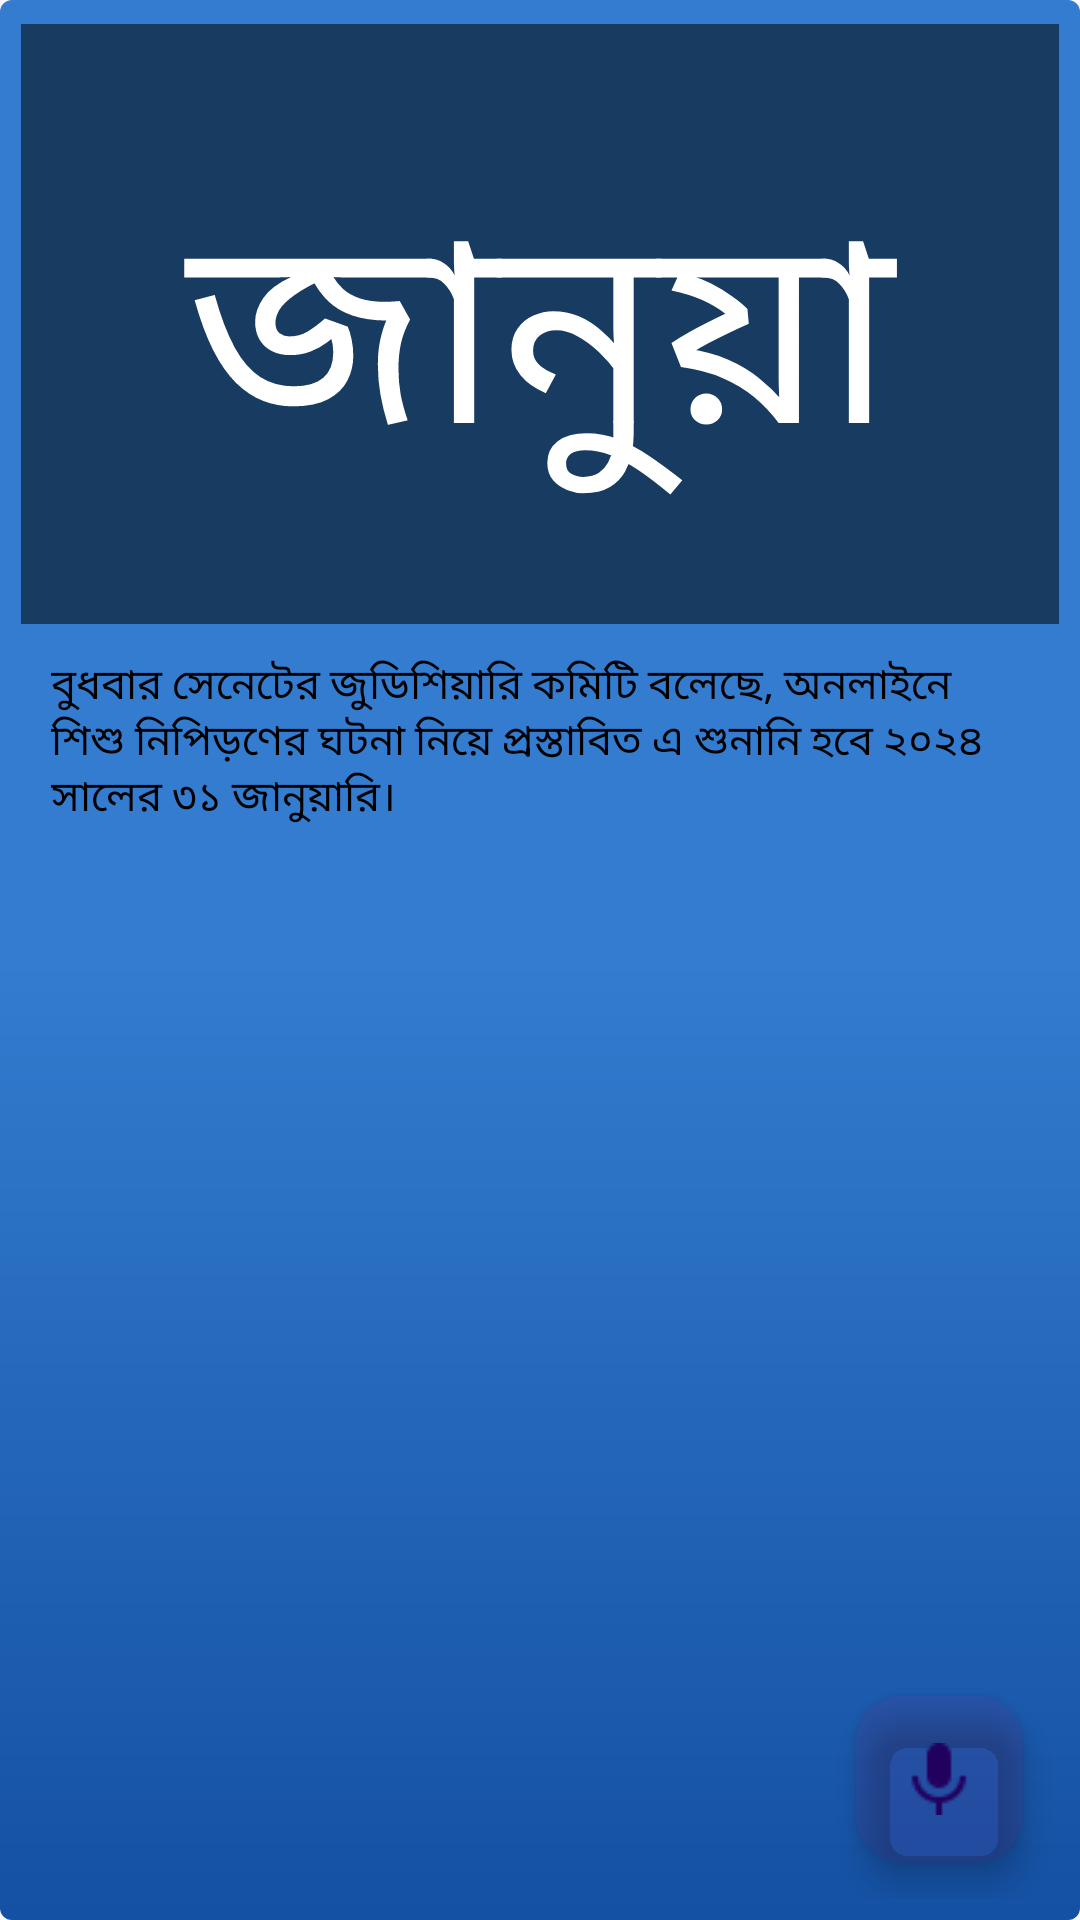

Named icons in this screenshot (1080 × 1920) and their centers, point (x, y):
voice drk: point (939, 1779)
